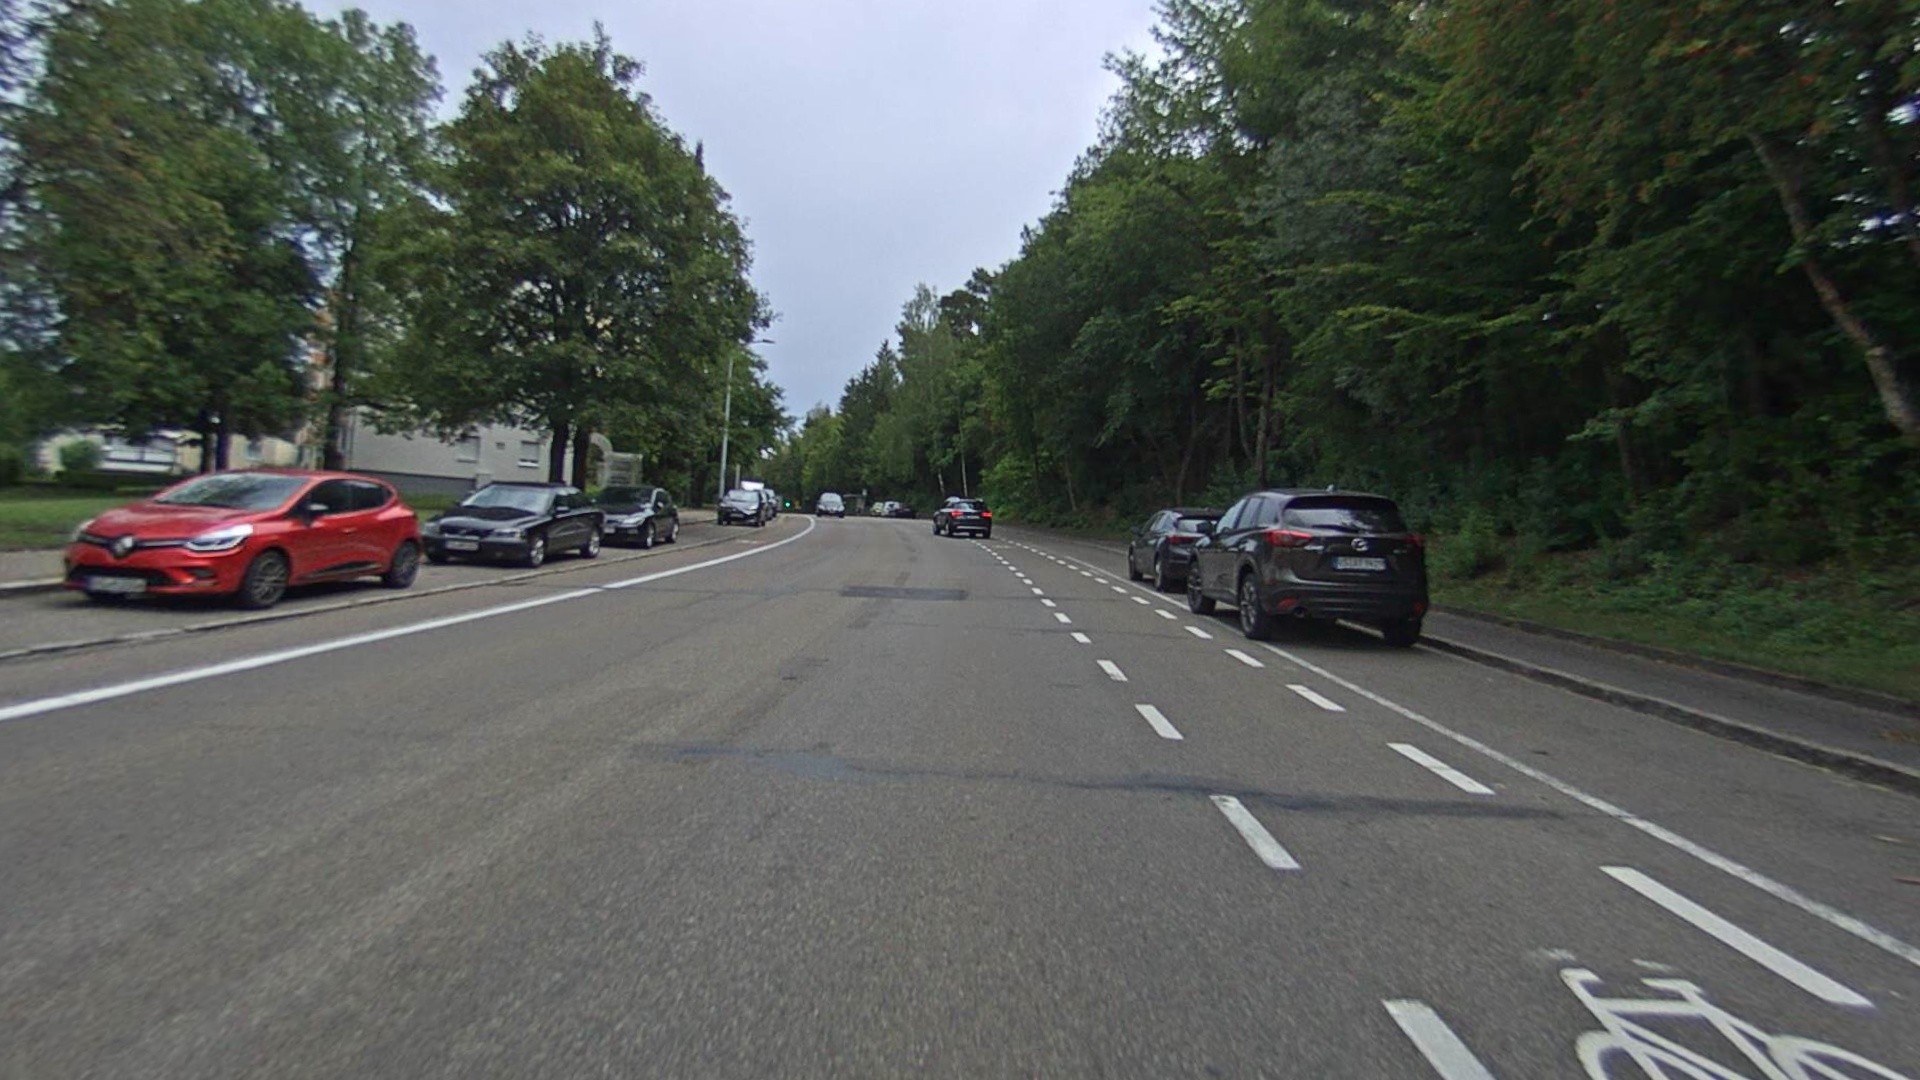car: (57, 465, 429, 611), (1185, 484, 1432, 646), (422, 483, 611, 567)
